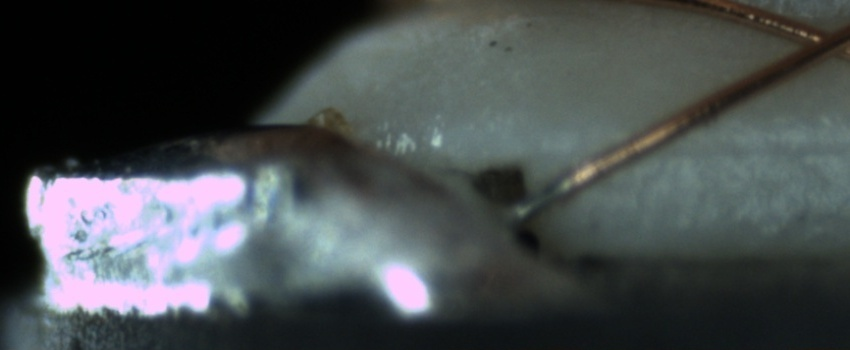CL: (773, 13, 848, 71)
DL: (624, 110, 845, 182)
TS: (511, 171, 581, 223)
TTCW: (511, 150, 612, 223)
